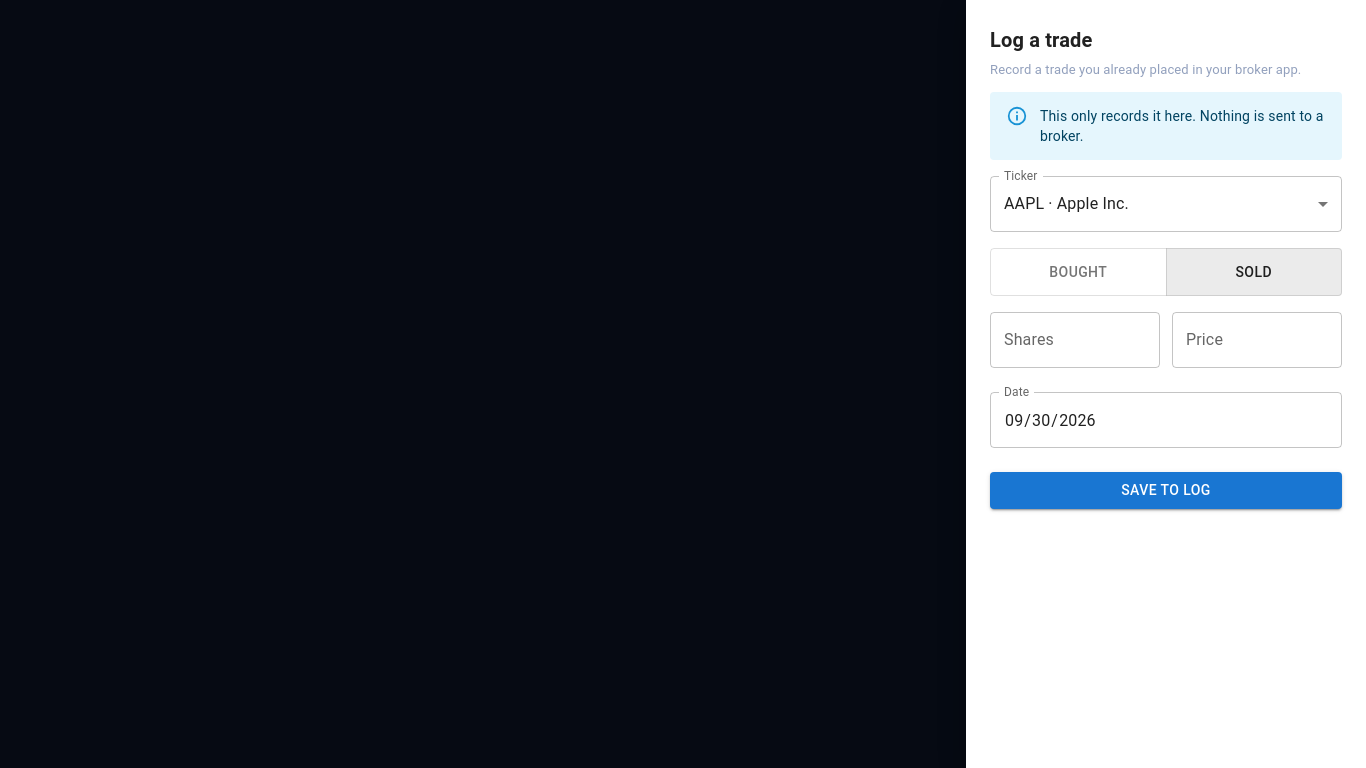
Test: TradeSheet › shows the backend's message and stays open when selling more than is held
Type "50" into the number field labelled "Shares" at x=1075, y=340, box x1=990 y1=312 x2=1160 y2=368
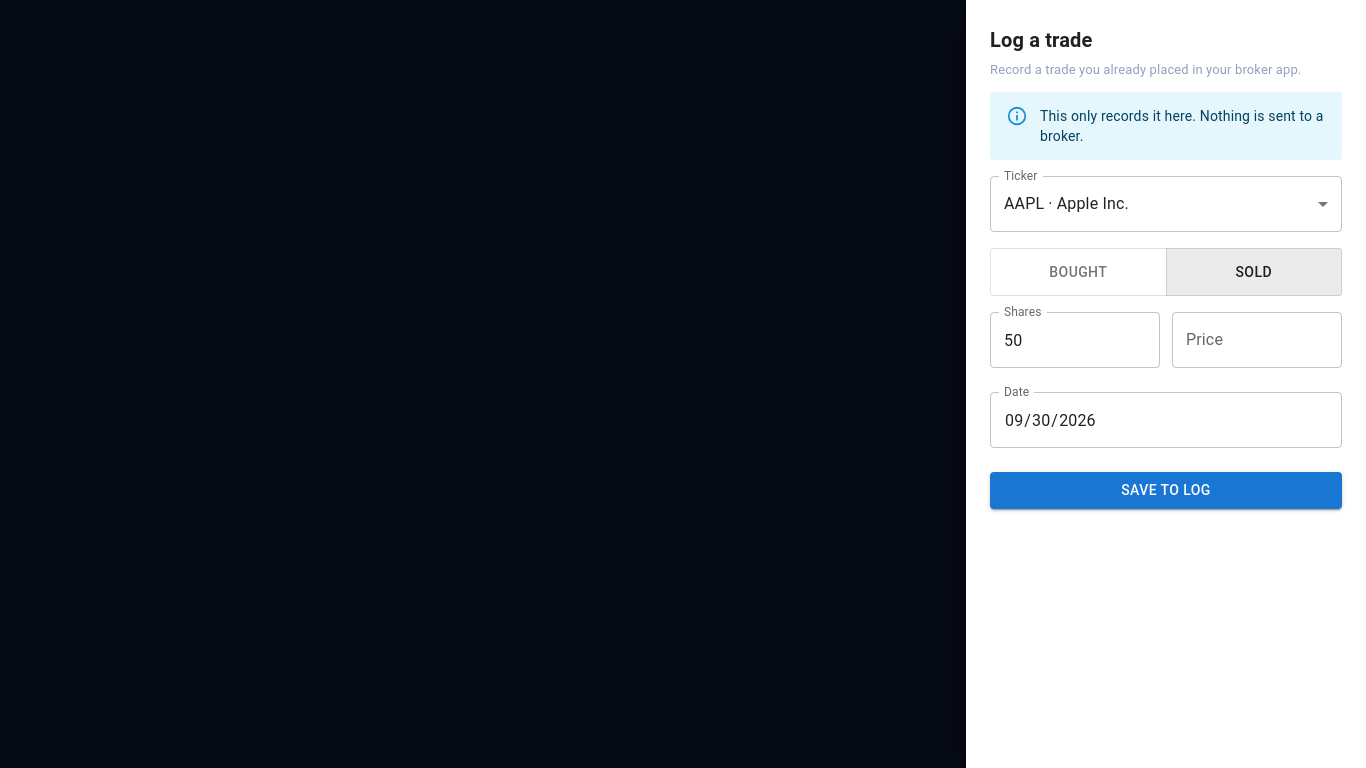
Type "130" into the number field labelled "Price" at x=1257, y=340, box x1=1172 y1=312 x2=1342 y2=368
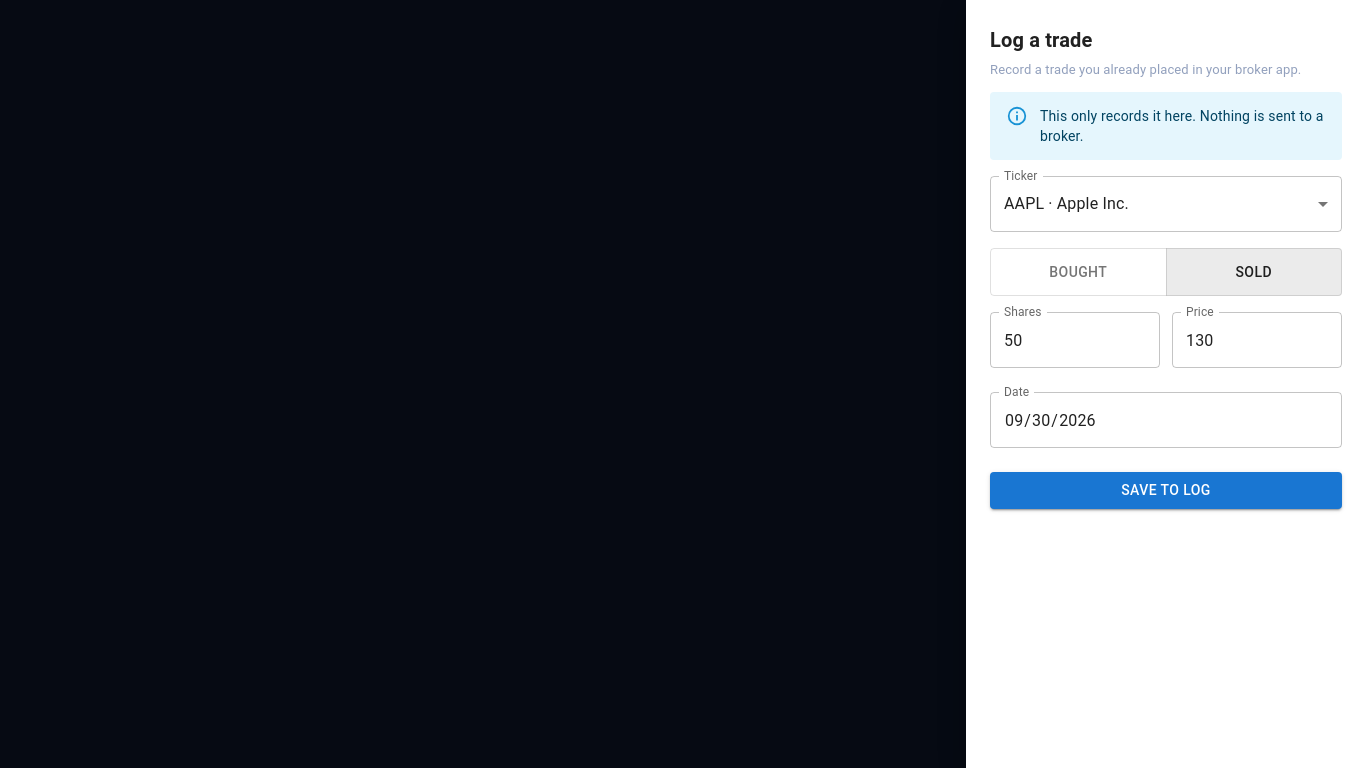
Click the button "Save to log" at x=1166, y=490, box x1=990 y1=472 x2=1342 y2=508
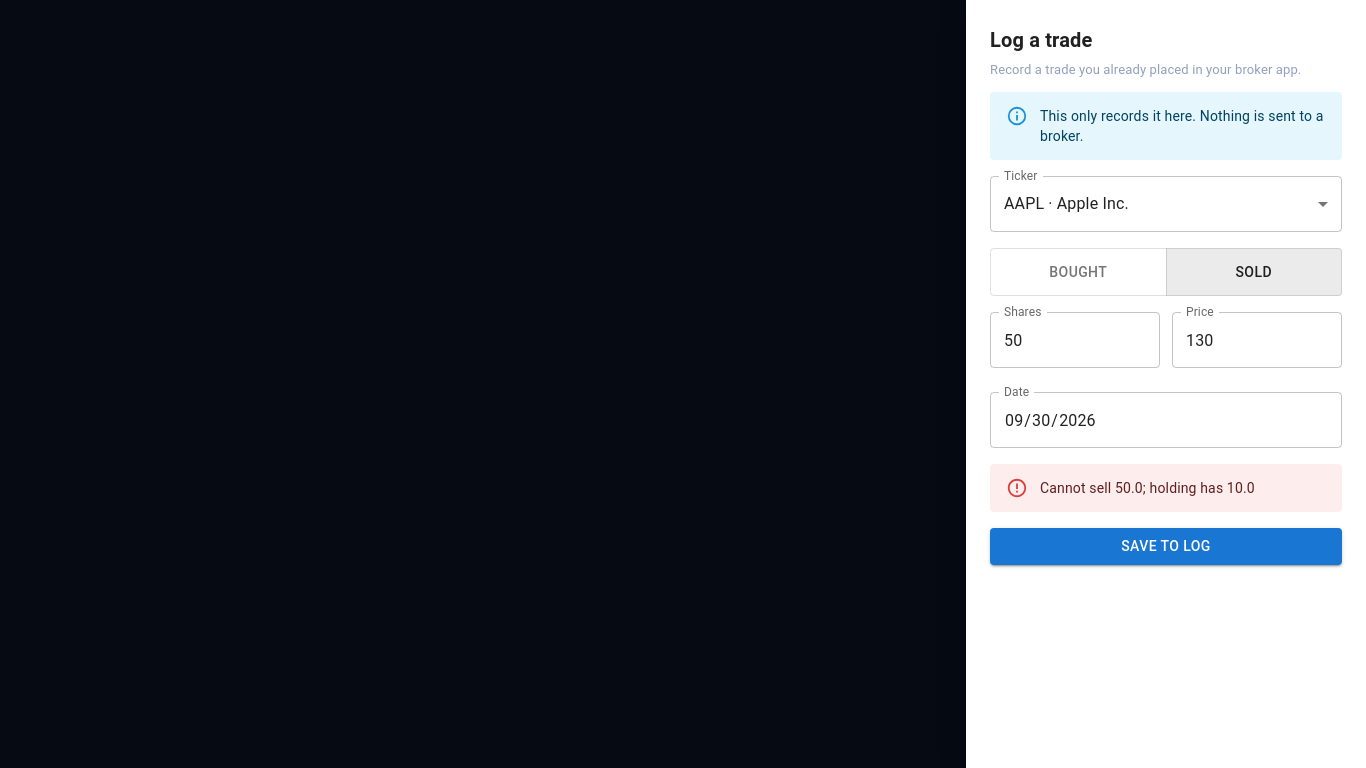
Expected: the text "Cannot sell 50.0; holding has 10.0" is shown, x1=1040 y1=480 x2=1255 y2=496
